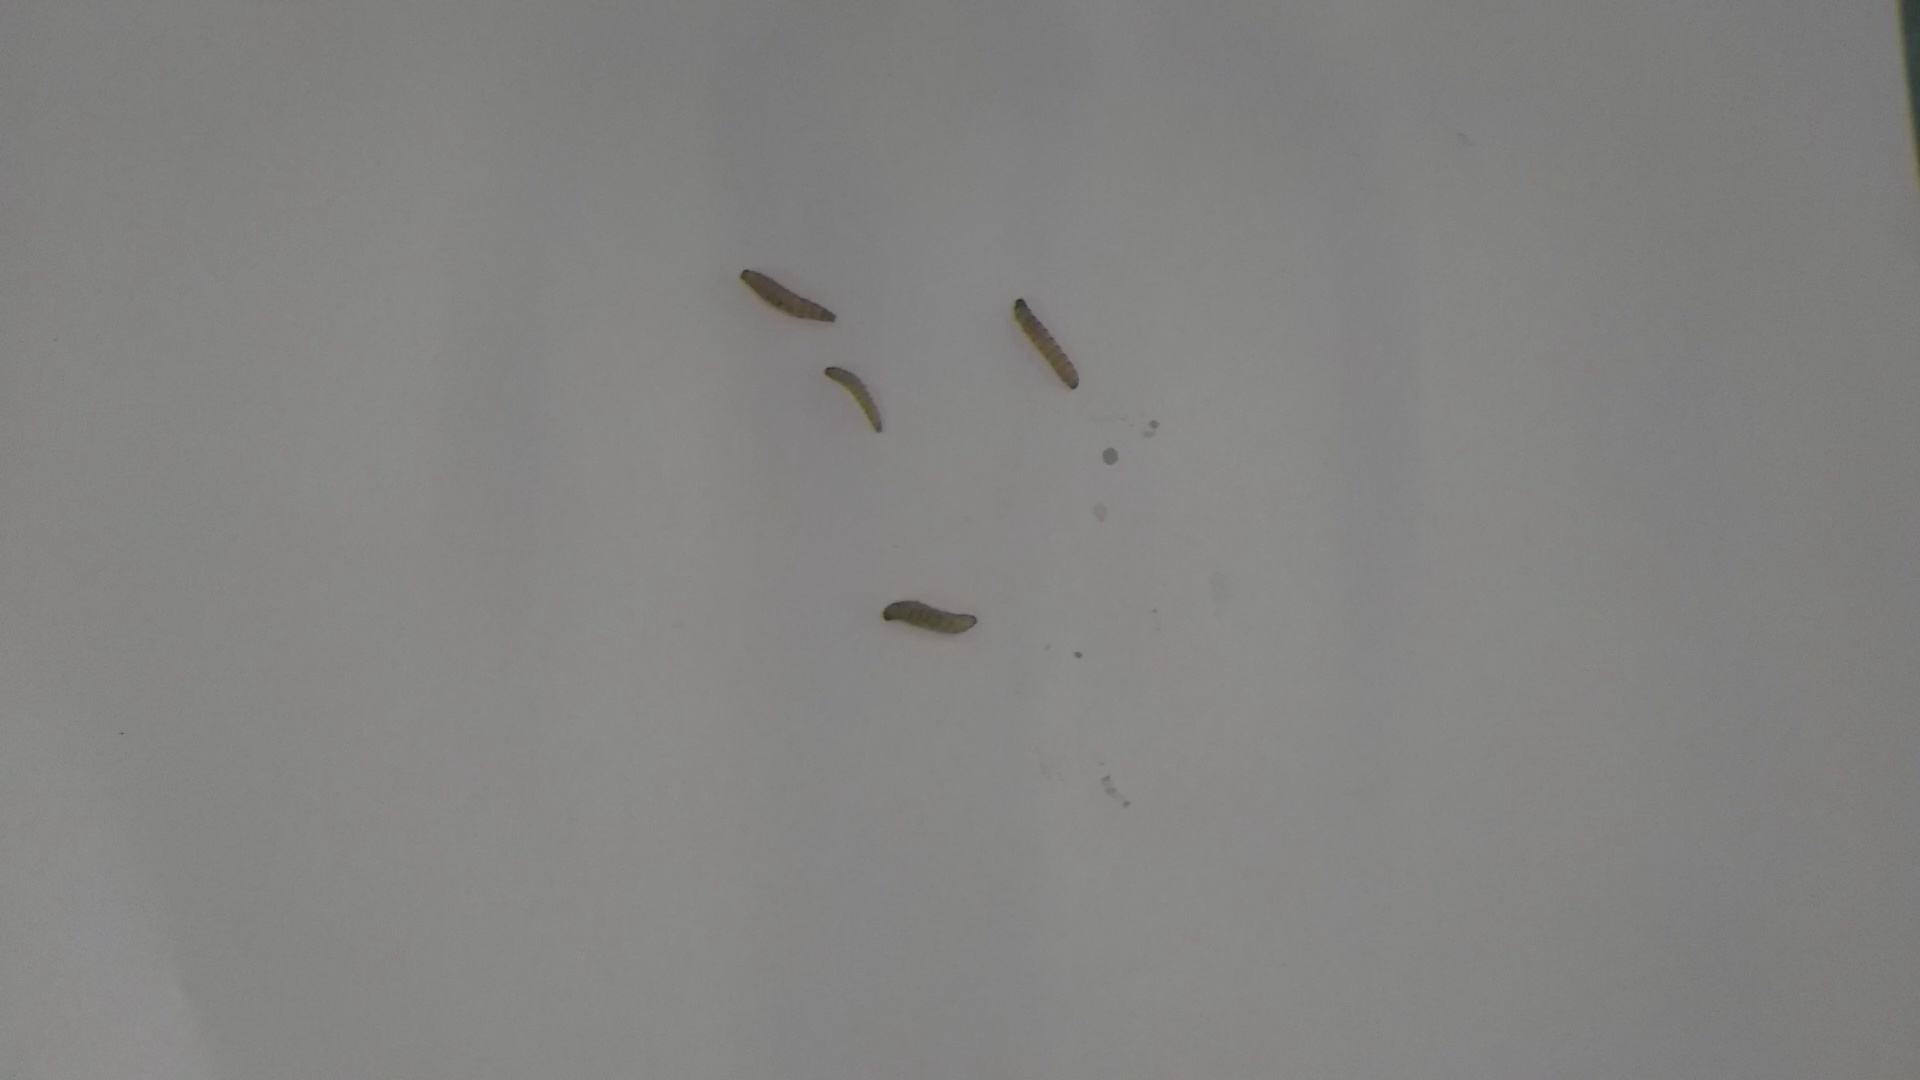efsb: (1013, 287, 1084, 400), (729, 264, 847, 328), (819, 360, 889, 433), (877, 592, 982, 637)
